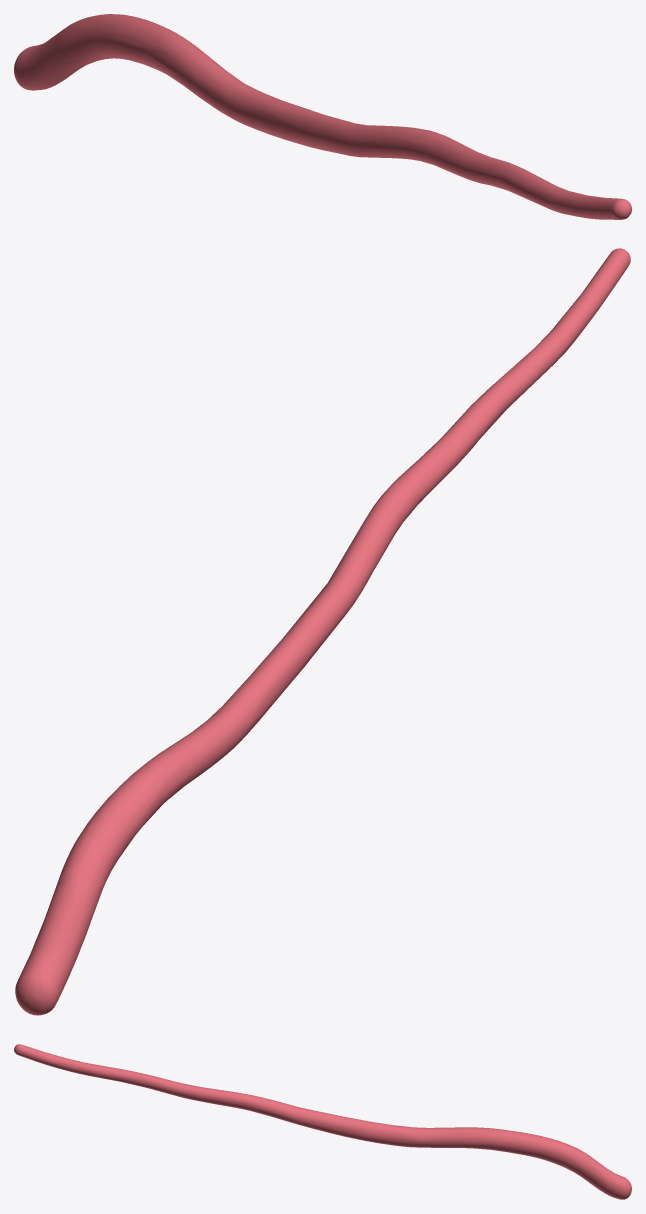
Rendered from fma49869_fj1695.glb.
3 views of the same model, one above another, from view 1: azimuth 30°, elevation 25°; view 2: azimuth 150°, elevation 25°; view 3: azimuth 270°, elevation 25° (orthographic). The views are drawn at different scales.
Visible parts, largest first — view 1: FMA49869_FJ1695; view 2: FMA49869_FJ1695; view 3: FMA49869_FJ1695.
Part boxes in pixels (x1=…): FMA49869_FJ1695: x1=14, y1=14, x2=631, y2=219; FMA49869_FJ1695: x1=15, y1=248, x2=630, y2=1015; FMA49869_FJ1695: x1=14, y1=1044, x2=631, y2=1199.
Size of the model in its own units: 0.00327 by 0.0155 by 0.0544.
